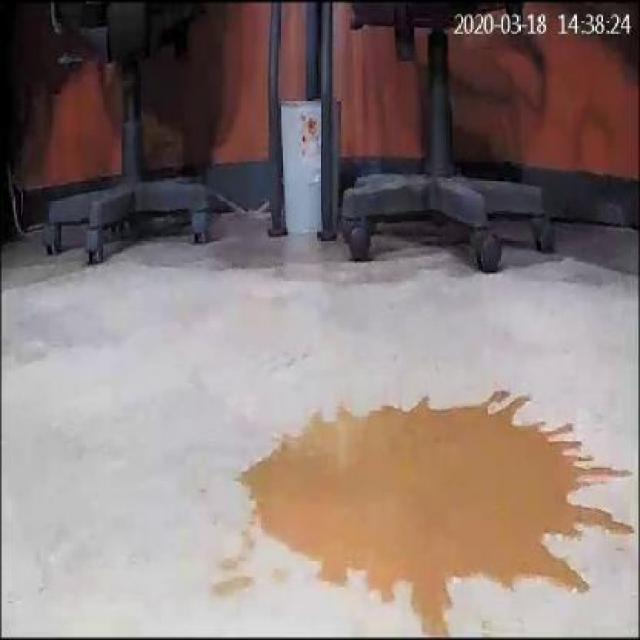spill: (249, 386, 626, 640)
